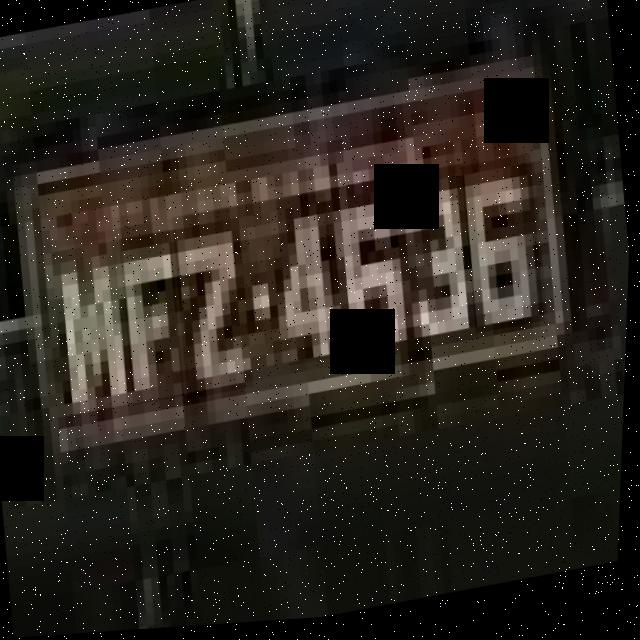3: (402, 178, 483, 344)
4: (272, 195, 347, 371)
6: (457, 159, 552, 341), (333, 203, 417, 363)
F: (116, 230, 192, 408)
M: (55, 238, 133, 413)
Z: (168, 206, 262, 403)
